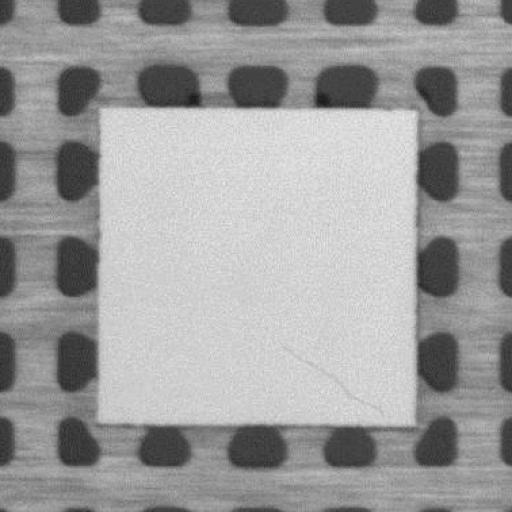DIE_CRACK: (280, 340, 385, 415)
